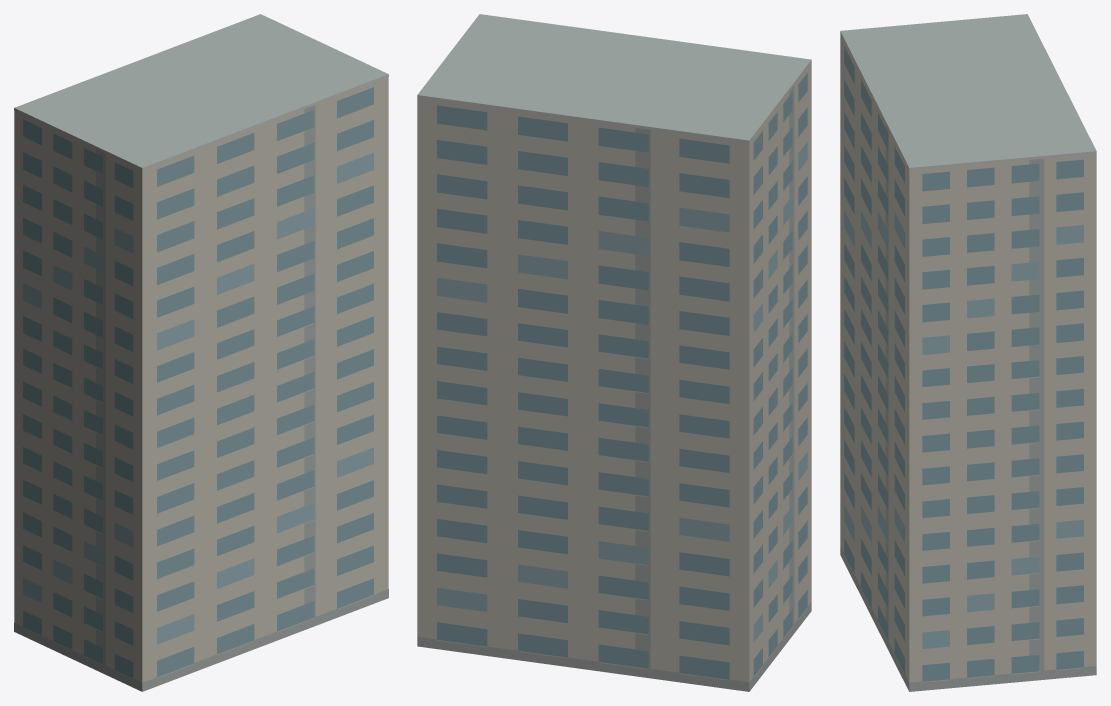
File: residential-fbf7d3a1-a7c2-4567-87e7-c0fab53e1c0a.glb
3 renders of one model, left to right at view 1: azimuth 30°, elevation 25°; view 2: azimuth 150°, elevation 25°; view 3: azimuth 270°, elevation 25°, orthographic. The views are drawn at different scales.
Visible parts, largest first — view 1: residential-fbf7d3a1-a7c2-4567-87e7-c0fab53e1c0a.tmp; view 2: residential-fbf7d3a1-a7c2-4567-87e7-c0fab53e1c0a.tmp; view 3: residential-fbf7d3a1-a7c2-4567-87e7-c0fab53e1c0a.tmp.
Boxes of the visible parts, x1=… form: residential-fbf7d3a1-a7c2-4567-87e7-c0fab53e1c0a.tmp: x1=14, y1=14, x2=388, y2=691; residential-fbf7d3a1-a7c2-4567-87e7-c0fab53e1c0a.tmp: x1=417, y1=14, x2=811, y2=691; residential-fbf7d3a1-a7c2-4567-87e7-c0fab53e1c0a.tmp: x1=840, y1=14, x2=1096, y2=691.
Bounding box in the file's own units: 28.37 × 45 × 19.97.
